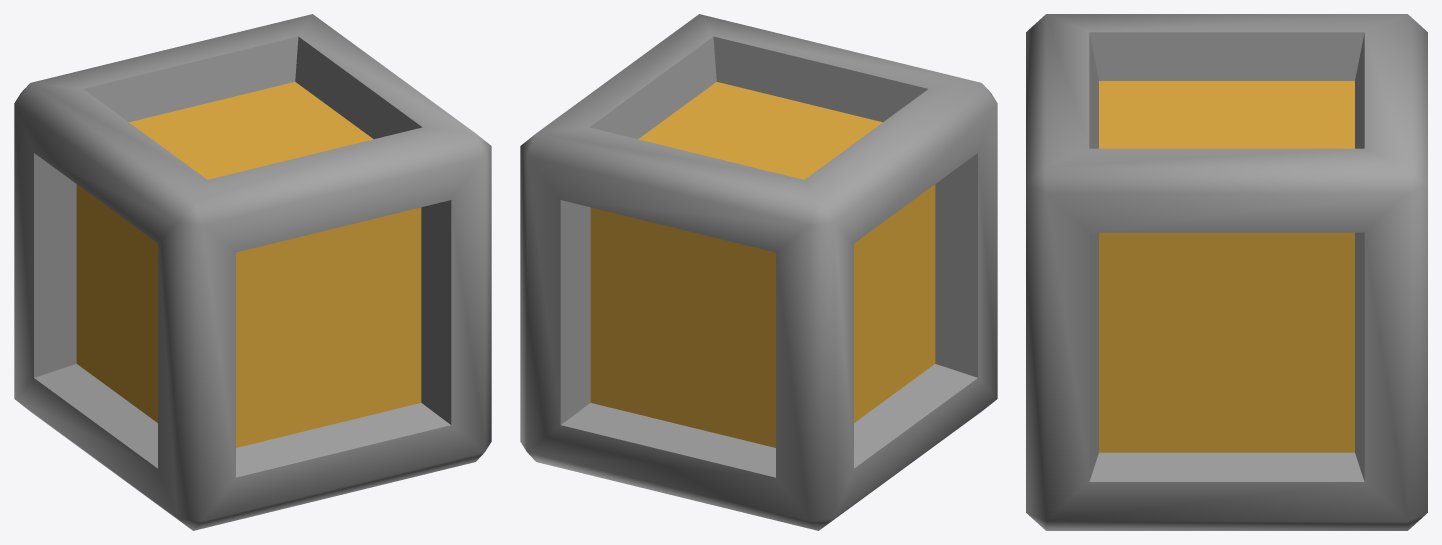
The model's file is box_large.fbx.
3 renders of one model, left to right at view 1: azimuth 30°, elevation 25°; view 2: azimuth 150°, elevation 25°; view 3: azimuth 270°, elevation 25°, orthographic. The views are drawn at different scales.
Visible parts, largest first — view 1: box_large; view 2: box_large; view 3: box_large.
Part boxes in pixels (x1,y1,x2,y2): box_large: (14,14,491,530); box_large: (520,14,997,530); box_large: (1026,14,1427,530).
Bounding box in the file's own units: 150 × 150 × 150.
